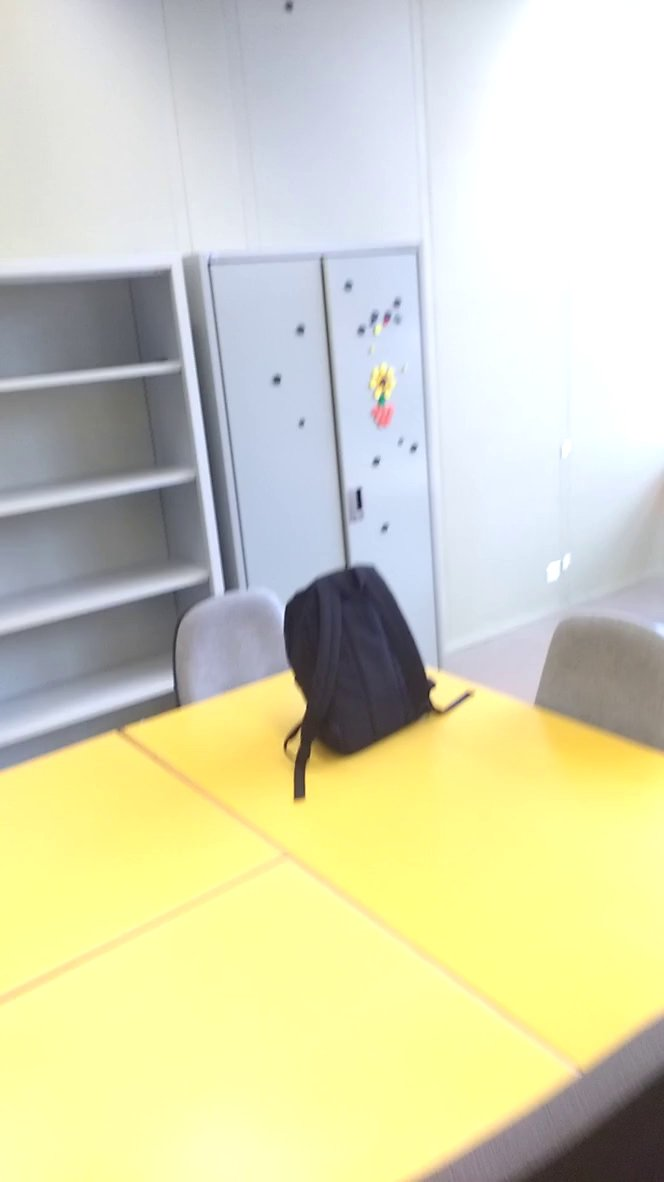bag: (280, 551, 479, 808)
chair: (524, 595, 664, 760), (147, 575, 305, 718)
